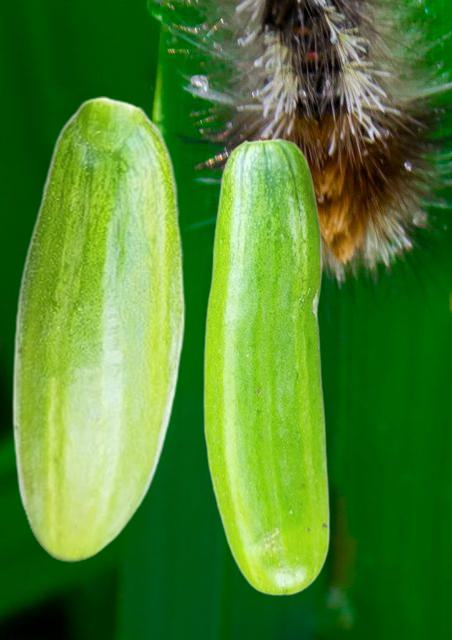cucumber: (11, 96, 184, 561), (203, 137, 329, 595)
